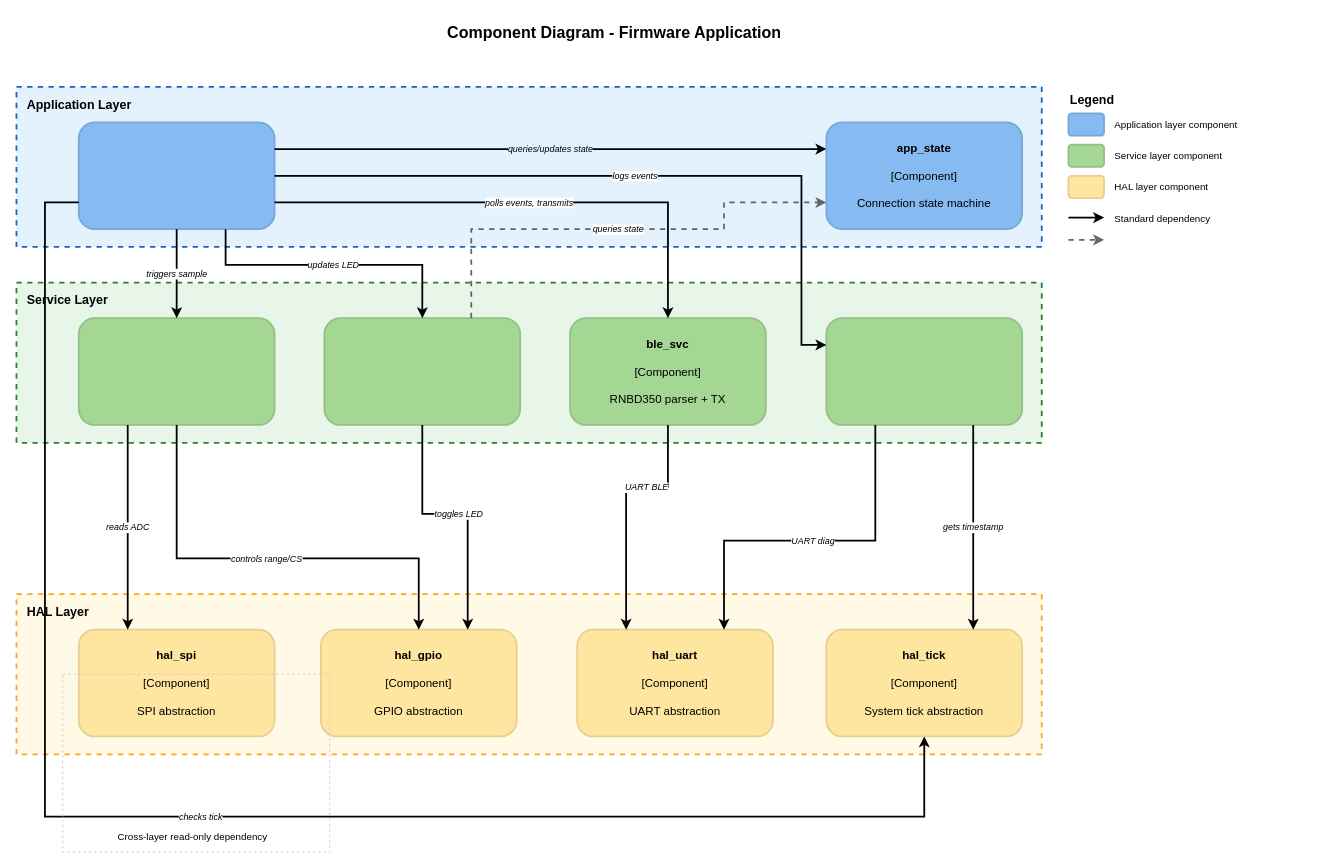
Some shapes in this 1332 by 868 pixel diagram are drawn without their labels. Here are the shapes that lost their labels. From the top down, the centre of each, then its label:
At pixel 176 175: "main [Component] Super-loop entry, initialization".
At pixel 176 371: "measurement_svc [Component] ADC read + conversion".
At pixel 422 371: "led_svc [Component] LED timing logic".
At pixel 924 371: "diag_svc [Component] Diagnostic logging".
